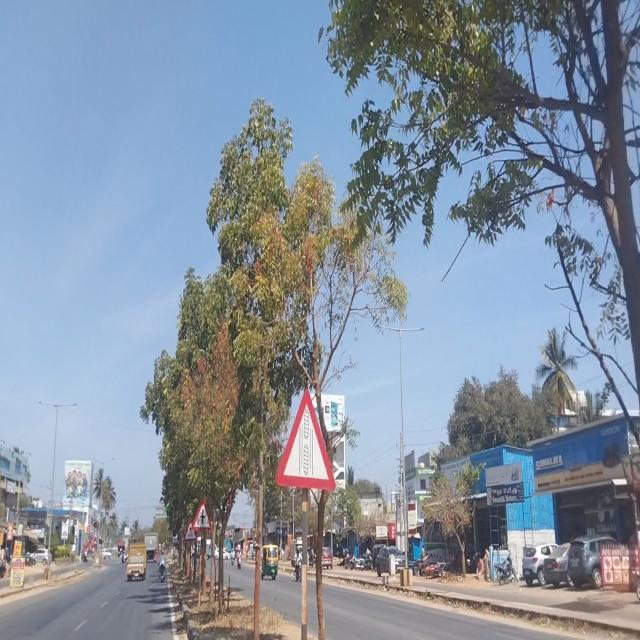bien_cam: (275, 383, 336, 494), (193, 498, 211, 529), (184, 519, 197, 541)
